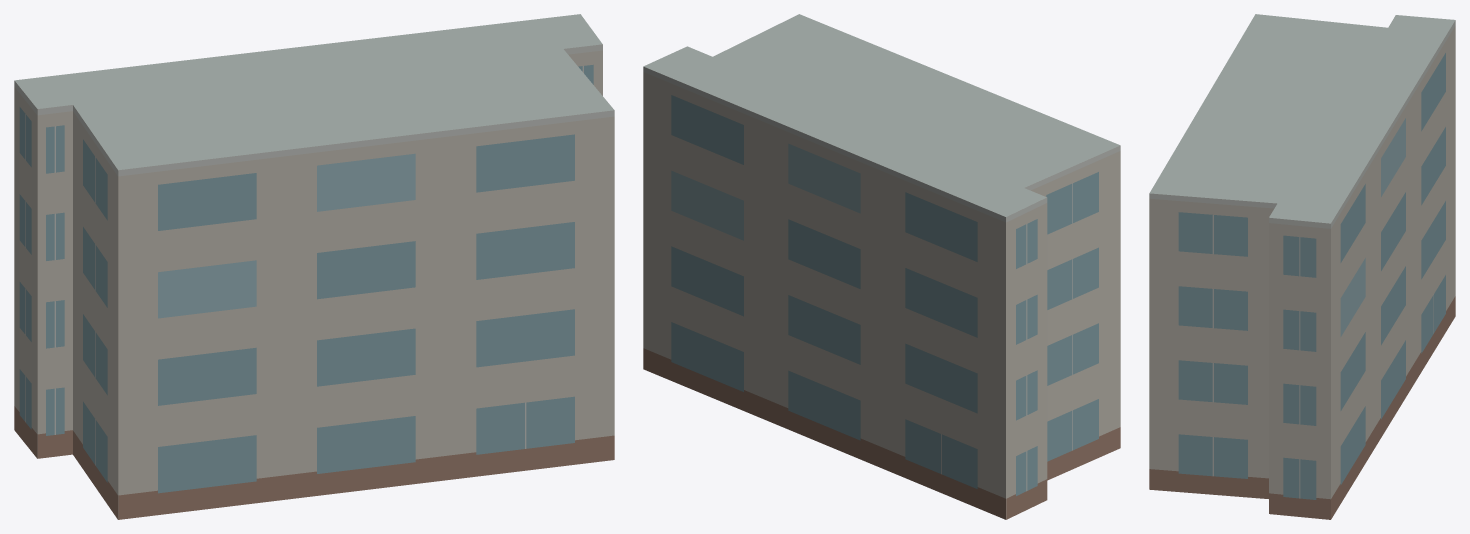
Rendered from survey-upis-32828128.glb.
3 views of the same model, side by side, from view 1: azimuth 30°, elevation 25°; view 2: azimuth 150°, elevation 25°; view 3: azimuth 270°, elevation 25° (orthographic). The views are drawn at different scales.
Parts seen in each view (by area): view 1: survey-upis-32828128.tmp; view 2: survey-upis-32828128.tmp; view 3: survey-upis-32828128.tmp.
Boxes of the visible parts, box(x1,y1,x2,y2) form: survey-upis-32828128.tmp: box(14, 14, 614, 519); survey-upis-32828128.tmp: box(643, 14, 1120, 519); survey-upis-32828128.tmp: box(1149, 14, 1455, 519).
Size of the model in its own units: 20.8 by 13.7 by 12.85.
